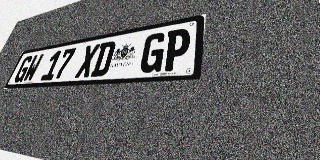1: (40, 50, 64, 81)
7: (52, 48, 77, 80)
D: (90, 40, 117, 77)
G: (138, 31, 167, 73), (12, 55, 34, 83)
P: (161, 27, 192, 72)
W: (22, 53, 44, 82)
X: (74, 43, 100, 78)
